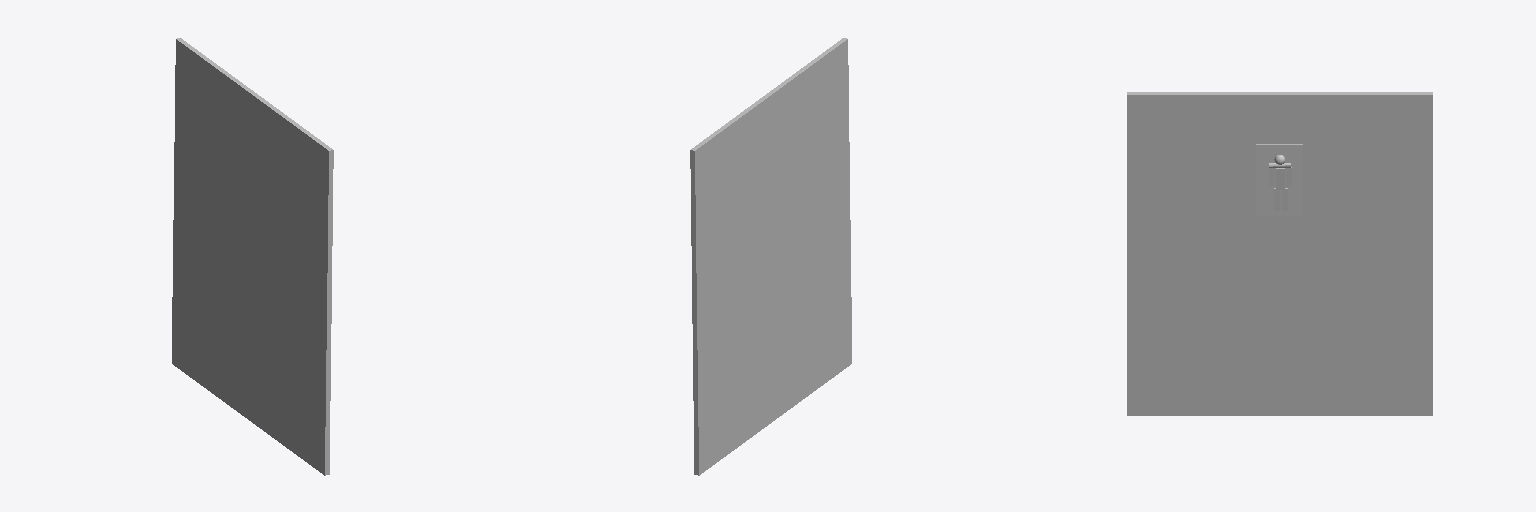
File: ToiletDoor.obj
3 views of the same model, side by side, from view 1: azimuth 30°, elevation 25°; view 2: azimuth 150°, elevation 25°; view 3: azimuth 270°, elevation 25° (orthographic).
Visible parts, largest first — view 1: pCube8; view 2: pCube8; view 3: pCube8.
Part boxes in pixels (left/top/right/bottom): pCube8: left=172, top=38, right=333, bottom=475; pCube8: left=690, top=38, right=851, bottom=475; pCube8: left=1127, top=92, right=1432, bottom=415.
Size of the model in its own units: 0.2149 by 4.29 by 3.68.